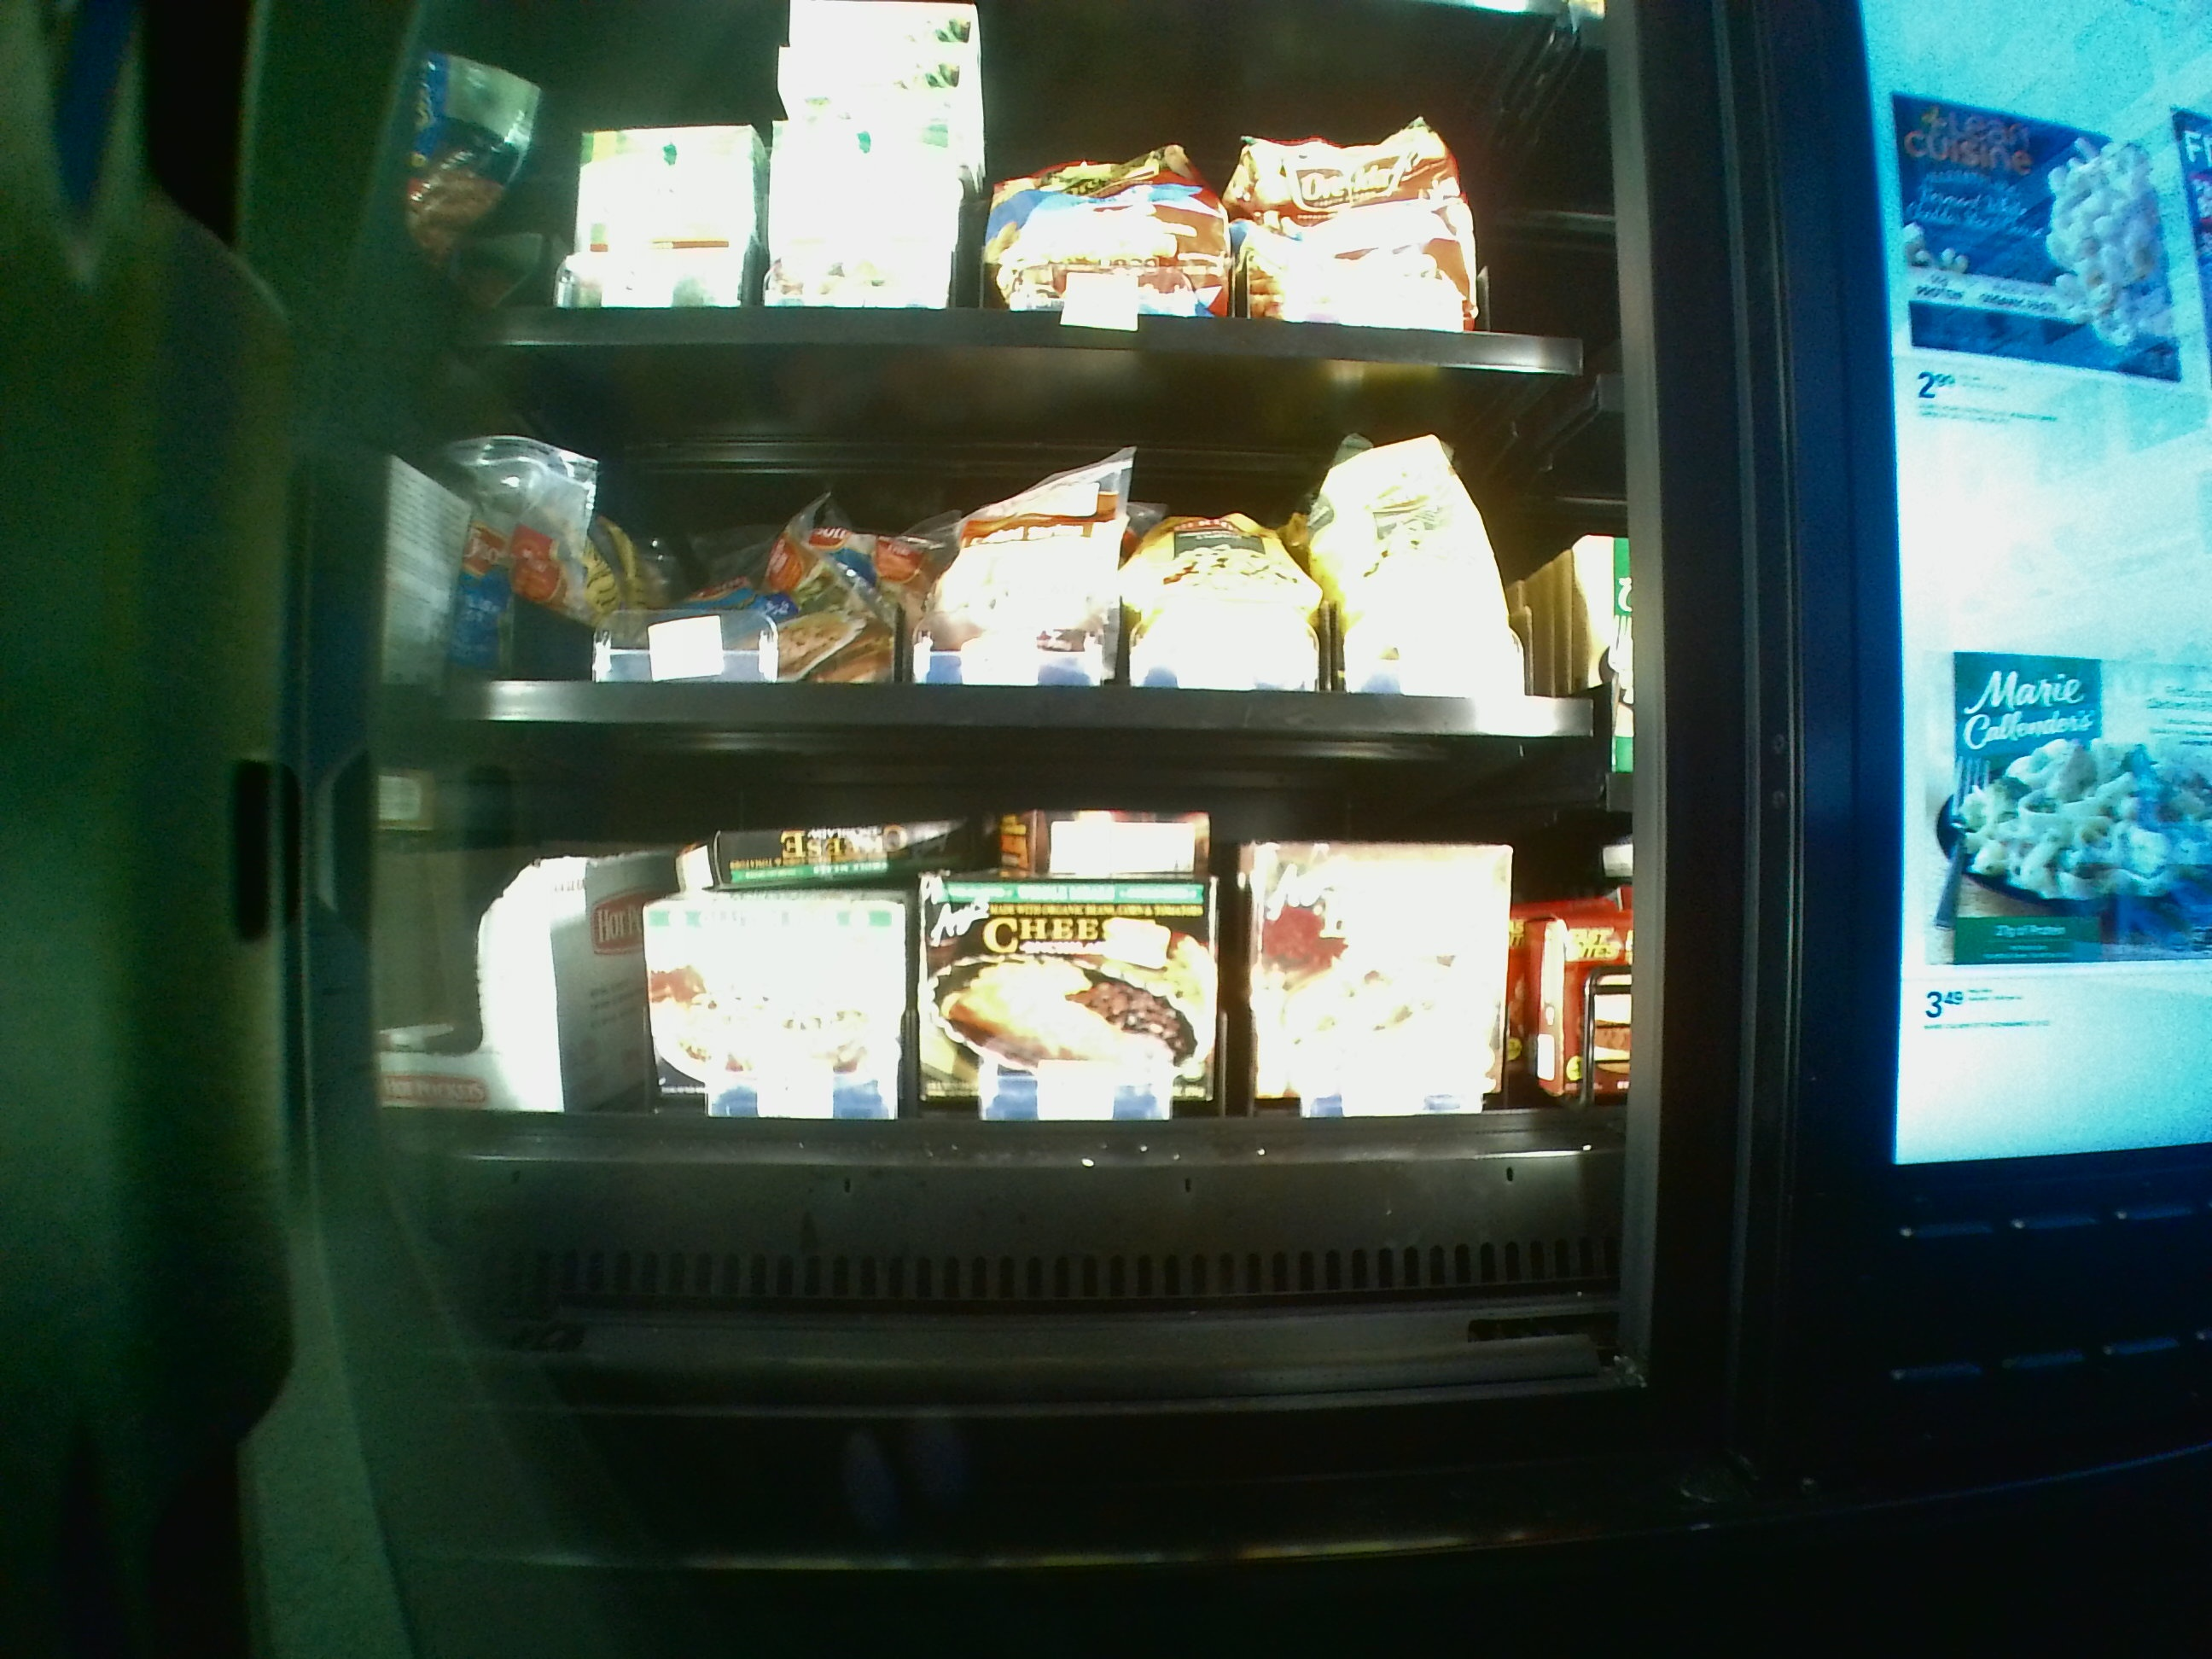shelf: (385, 756, 1618, 1368), (381, 350, 1618, 744)
